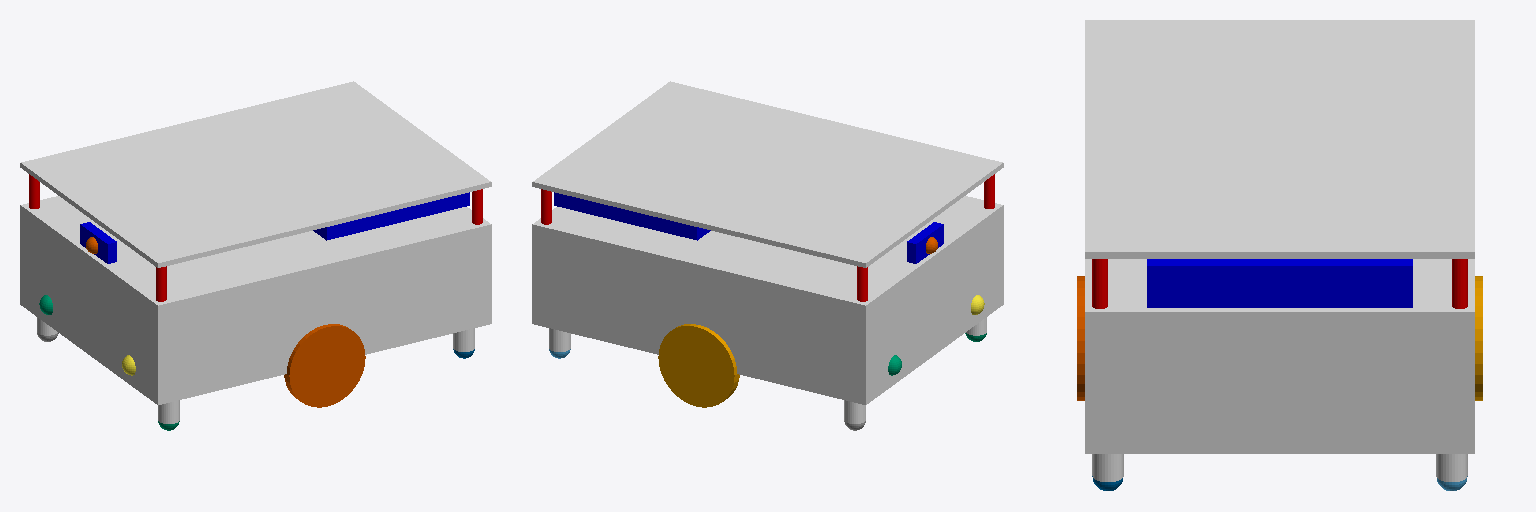
URDF robot description (agv_model):
<?xml version="1.0"?>
<robot name = "agv_model">

    <material name = "White">
        <color rgba="0.9 0.9 0.9 1.0"/>
    </material>

    <material name = "Grey">
        <color rgba = "0.8 0.7 0.8"/>
    </material>

    <material name = "Red">
        <color rgba = "0.9 0.0 0.0 1.0"/>
    </material>

    <material name = "Green">
        <color rgba = "0.0 0.9 0.0 1.0"/>
    </material>

    <material name = "Blue">
        <color rgba = "0.0 0.0 0.9 1.0"/>
    </material>

    <link name = "base_footprint"/>

    <link name = "base_link">
        <visual>
            <geometry>
                <box size="0.7 0.5 0.2"/>  
            </geometry>
            <origin xyz="0.0 0.0 0.1" rpy="0.0 0.0 0.0"/>  
            <material name = "White"/>
        </visual>
    </link>

    <link name = "second_link">
        <visual>
            <geometry>
                <box size = "0.3 0.34 0.06"/>
            </geometry>
            <origin xyz = "-0.15 0.0 0.035" rpy="0.0 0.0 0.0"/>
            <material name = "Blue"/>
        </visual>
    </link>

    <link name = "third_link">
        <visual>
            <geometry>
                <cylinder radius="0.01" length="0.08"/>
            </geometry>
            <origin xyz = "-0.018 0 0.04" rpy = "0 0 0"/>
            <material name = "Red"/>
        </visual>
    </link>

    <link name = "fourth_link">
        <visual>
            <geometry>
                <cylinder radius="0.01" length="0.08"/>
            </geometry>
            <origin xyz = "-0.018 0 0.04" rpy = "0 0 0"/>
            <material name = "Red"/>
        </visual>
    </link>

    <link name = "fifth_link">
        <visual>
            <geometry>
                <cylinder radius="0.01" length="0.08"/>
            </geometry>
            <origin xyz = "0.018 0 0.04" rpy = "0 0 0"/>
            <material name = "Red"/>
        </visual>
    </link>

    <link name = "sixth_link">
        <visual>
            <geometry>
                <cylinder radius="0.01" length="0.08"/>
            </geometry>
            <origin xyz = "0.018 0 0.04" rpy = "0 0 0"/>
            <material name = "Red"/>
        </visual>
    </link>

    <link name = "seventh_link">
        <visual>
            <geometry>
                 <box size="0.7 0.5 0.01"/>  
            </geometry>
            <origin xyz = "-0.35 0 0.02" rpy = "0 0 0"/>
            <material name = "White"/>
        </visual>
    </link>

    <link name="right_wheel_link">
        <visual>
            <geometry>
                <cylinder radius="0.08" length="0.02"/>
            </geometry>
            <!-- rotate cylinder so it's horizontal -->
            <origin xyz="0 0 0" rpy="0 1.57 0"/>
            <material name="Grey"/>
        </visual>
    
        <collision>
            <geometry>
                <cylinder radius="0.08" length="0.02"/>
            </geometry>
            <origin xyz="0 0 0" rpy="0 1.57 0"/>
        </collision>
    
        <inertial>
            <mass value="0.5"/>
            <inertia ixx="0.001" iyy="0.001" izz="0.001"
                     ixy="0.0" ixz="0.0" iyz="0.0"/>
        </inertial>
    </link>    
    

    <link name = "right_front_caster_link">
        <visual>
            <geometry>
                <cylinder radius="0.02" length="0.05"/>
            </geometry>
            <origin xyz = "0 0 0" rpy ="0 0 0"/>
            <material name = "White"/>
        </visual>
    </link>

    <link name = "right_front_caster_wheel_link">
        <visual>
            <geometry>
                <sphere radius="0.02"/>
            </geometry>
            <origin xyz = "0 0 0" rpy ="0 0 0"/>
            <material name = "Grey"/>
        </visual>
    </link>

    <link name = "right_back_caster_link">
        <visual>
            <geometry>
                <cylinder radius="0.02" length="0.05"/>
            </geometry>
            <origin xyz = "0 0 0" rpy ="0 0 0"/>
            <material name = "White"/>
        </visual>
    </link>

    <link name = "right_back_caster_wheel_link">
        <visual>
            <geometry>
                <sphere radius="0.02"/>
            </geometry>
            <origin xyz = "0 0 0" rpy ="0 0 0"/>
            <material name = "Grey"/>
        </visual>
    </link>

    <link name = "left_wheel_link">
        <visual>
            <geometry>
                <cylinder radius="0.08" length="0.02"/>
            </geometry>
            <origin xyz = "0 0 0" rpy = "0 1.57 0"/>
            <material name = "Grey"/>
        </visual>
        <collision>
            <geometry>
              <cylinder radius="0.08" length="0.02"/>
            </geometry>
            <origin xyz="0 0 0" rpy="0 1.57 0"/>
        </collision>
          
        <inertial>
            <mass value="0.5"/>
            <inertia ixx="0.001" iyy="0.001" izz="0.001"
                ixy="0.0" ixz="0.0" iyz="0.0"/>
        </inertial>
          
    </link>

    <link name = "left_front_caster_link">
        <visual>
            <geometry>
                <cylinder radius="0.02" length="0.05"/>
            </geometry>
            <origin xyz = "0 0 0" rpy ="0 0 0"/>
            <material name = "White"/>
        </visual>
    </link>

    <link name = "left_front_caster_wheel_link">
        <visual>
            <geometry>
                <sphere radius="0.02"/>
            </geometry>
            <origin xyz = "0 0 0" rpy ="0 0 0"/>
            <material name = "Grey"/>
        </visual>
    </link>

    <link name = "left_back_caster_link">
        <visual>
            <geometry>
                <cylinder radius="0.02" length="0.05"/>
            </geometry>
            <origin xyz = "0 0 0" rpy ="0 0 0"/>
            <material name = "White"/>
        </visual>
    </link>

    <link name = "left_back_caster_wheel_link">
        <visual>
            <geometry>
                <sphere radius="0.02"/>
            </geometry>
            <origin xyz = "0 0 0" rpy ="0 0 0"/>
            <material name = "Grey"/>
        </visual>
    </link>

    <link name = "right_bush_link">
        <visual>
            <geometry>
                 <sphere radius="0.02"/>
            </geometry>
            <origin xyz = "0 0 0" rpy ="0 0 0"/>
            <material name = "Grey"/>
        </visual>
    </link>

    <link name = "left_bush_link">
        <visual>
            <geometry>
                 <sphere radius="0.02"/>
            </geometry>
            <origin xyz = "0 0 0" rpy ="0 0 0"/>
            <material name = "Grey"/>
        </visual>
    </link>

    <link name = "camera_base_link">
        <visual>
            <geometry>
                <box size = "0.02 0.1 0.04"/>
            </geometry>
            <origin xyz = "0.02 0 0.02" rpy="0 0 0"/>
            <material name = "Blue"/>
        </visual>
    </link>

    <link name = "camera_link">
        <visual>
            <geometry>
                 <sphere radius="0.016"/>
            </geometry>
            <origin xyz = "0 0 0" rpy ="0 0 0"/>
            <material name = "Grey"/>
        </visual>
    </link>





    <joint name = "base_joint" type = "fixed">
        <parent link = "base_footprint"/>
        <child link = "base_link"/>
        <origin xyz="0 0 0.08" rpy="0 0 0"/>
    </joint>

    <joint name = "base_second_joint" type = "fixed">
        <parent link = "base_link"/>
        <child link = "second_link"/>
        <origin xyz="0.35 0 0.2 " rpy = "0 0 0"/>
    </joint>

    <joint name = "second_third_joint" type = "fixed">
        <parent link = "second_link"/>
        <child link = "third_link"/>
        <origin xyz="0.0 0.23 0" rpy="0 0 0"/>
    </joint>

    <joint name = "second_fourth_joint" type = "fixed">
        <parent link = "second_link"/>
        <child link = "fourth_link"/>
        <origin xyz="0.0 -0.23 0" rpy="0 0 0"/>
    </joint>

    <joint name = "second_fifth_joint" type = "fixed">
        <parent link = "second_link"/>
        <child link = "fifth_link"/>
        <origin xyz="-0.7 -0.23 0" rpy="0 0 0"/>
    </joint>

    <joint name = "second_sixth_joint" type = "fixed">
        <parent link = "second_link"/>
        <child link = "sixth_link"/>
        <origin xyz="-0.7 0.23 0" rpy="0 0 0"/>
    </joint>

    <joint name = "second_seventh_joint" type = "fixed">
        <parent link = "second_link"/>
        <child link = "seventh_link"/>
        <origin xyz="0 0 0.06" rpy="0 0 0"/>
    </joint>

    <joint name = "right_wheel_base_joint" type = "continuous">
        <parent link = "base_link"/>
        <child link = "right_wheel_link"/>
        <origin xyz="0 0.25 0" rpy="0 0 1.57"/>   <!-- Rotate around Y so cylinder axis points sideways -->
        <axis xyz="1 0 0"/>   <!-- Wheel spins around Y -->        
    </joint>

    <joint name = "right_front_caster_base_joint" type = "fixed">
        <parent link = "base_link"/>
        <child link = "right_front_caster_link"/>
        <origin xyz="-0.31 -0.22 -0.025" rpy="0 0 0"/>
    </joint>

     <joint name = "wheel_right_front_caster_base_joint" type = "fixed">
        <parent link = "right_front_caster_link"/>
        <child link = "right_front_caster_wheel_link"/>
        <origin xyz="0 0 -0.025" rpy="0 0 0"/>
    </joint>

    <joint name = "right_back_caster_base_joint" type = "fixed">
        <parent link = "base_link"/>
        <child link = "right_back_caster_link"/>
        <origin xyz="0.31 -0.22 -0.025" rpy="0 0 0"/>
    </joint>

     <joint name = "wheel_right_back_caster_base_joint" type = "fixed">
        <parent link = "right_back_caster_link"/>
        <child link = "right_back_caster_wheel_link"/>
        <origin xyz="0 0 -0.025" rpy="0 0 0"/>
    </joint>

    <joint name = "left_wheel_base_joint" type = "continuous">
        <parent link = "base_link"/>
        <child link = "left_wheel_link"/>
        <origin xyz="0 -0.25 0" rpy="0 0 1.57"/>
        <axis xyz="1 0 0"/>        
    </joint>

    <joint name = "left_front_caster_base_joint" type = "fixed">
        <parent link = "base_link"/>
        <child link = "left_front_caster_link"/>
        <origin xyz="-0.31 0.22 -0.025" rpy="0 0 0"/>
    </joint>

     <joint name = "wheel_left_front_caster_base_joint" type = "fixed">
        <parent link = "left_front_caster_link"/>
        <child link = "left_front_caster_wheel_link"/>
        <origin xyz="0 0 -0.025" rpy="0 0 0"/>
    </joint>

    <joint name = "left_back_caster_base_joint" type = "fixed">
        <parent link = "base_link"/>
        <child link = "left_back_caster_link"/>
        <origin xyz="0.31 0.22 -0.025" rpy="0 0 0"/>
    </joint>

     <joint name = "wheel_left_back_caster_base_joint" type = "fixed">
        <parent link = "left_back_caster_link"/>
        <child link = "left_back_caster_wheel_link"/>
        <origin xyz="0 0 -0.025" rpy="0 0 0"/>
    </joint>

    <joint name = "right_bush_base_joint" type = "fixed">
        <parent link = "base_link"/>
        <child link = "right_bush_link"/>
        <origin xyz="-0.345 0.15 0.04" rpy="0 0 0"/>
    </joint>
    
    <joint name = "left_bush_base_joint" type = "fixed">
        <parent link = "base_link"/>
        <child link = "left_bush_link"/>
        <origin xyz="-0.345 -0.15 0.04" rpy="0 0 0"/>
    </joint>

    <joint name = "camera_base_base_joint" type = "fixed">
        <parent link = "base_link"/>
        <child link = "camera_base_link"/>
        <origin xyz="-0.35 0 0.2" rpy="0 0 0"/>
    </joint>

    <joint name = "camera_camera_base_joint" type = "fixed">
        <parent link = "camera_base_link"/>
        <child link = "camera_link"/>
        <origin xyz="0.011 0 0.018" rpy="0 0 0"/>
    </joint>

</robot>

--- Render facts (derived) ---
3 views of the same robot in one strip: view 1: azimuth 30°, elevation 25°; view 2: azimuth 150°, elevation 25°; view 3: azimuth 270°, elevation 25° (orthographic).
Model agv_model with 22 links and 21 joints (2 continuous, 19 fixed), rooted at base_footprint, posed every joint at zero.
Links seen in each view (by area): view 1: base_link, seventh_link, left_wheel_link, second_link, camera_base_link; view 2: base_link, seventh_link, right_wheel_link, second_link, camera_base_link; view 3: seventh_link, base_link, second_link, right_wheel_link, left_wheel_link, right_back_caster_link, left_back_caster_link, third_link, fourth_link.
Boxes of the visible links, bbox=[...] form: base_link: bbox=[20, 196, 491, 404]; seventh_link: bbox=[20, 81, 491, 267]; left_wheel_link: bbox=[284, 324, 365, 407]; second_link: bbox=[313, 192, 469, 240]; camera_base_link: bbox=[80, 222, 116, 263]; base_link: bbox=[532, 196, 1003, 404]; seventh_link: bbox=[532, 81, 1003, 267]; right_wheel_link: bbox=[658, 324, 739, 407]; second_link: bbox=[554, 192, 710, 240]; camera_base_link: bbox=[907, 222, 943, 263]; seventh_link: bbox=[1085, 20, 1474, 258]; base_link: bbox=[1085, 259, 1474, 453]; second_link: bbox=[1147, 259, 1412, 307]; right_wheel_link: bbox=[1475, 276, 1482, 400]; left_wheel_link: bbox=[1077, 276, 1084, 400]; right_back_caster_link: bbox=[1092, 454, 1123, 481]; left_back_caster_link: bbox=[1436, 454, 1467, 481]; third_link: bbox=[1452, 259, 1467, 308]; fourth_link: bbox=[1092, 259, 1107, 308].
Size in the robot's own frame: 0.715 by 0.5202 by 0.365 metres.
Geometry: primitives only (box / cylinder / sphere), no mesh files.